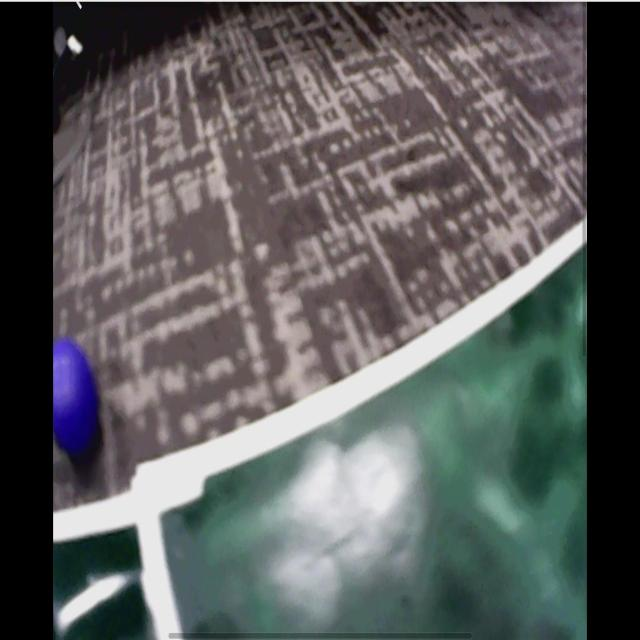ball: (56, 340, 100, 456)
